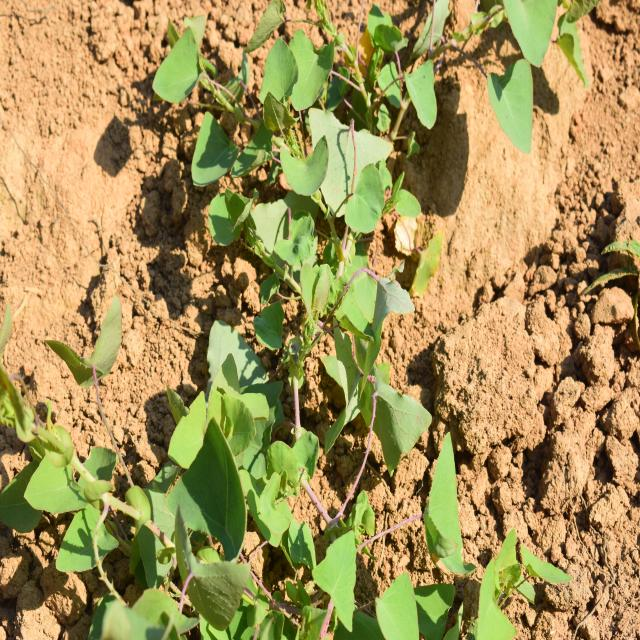Asiatic_Smartweed: (136, 393, 293, 640), (244, 18, 387, 216), (158, 10, 244, 246), (484, 0, 592, 165)
